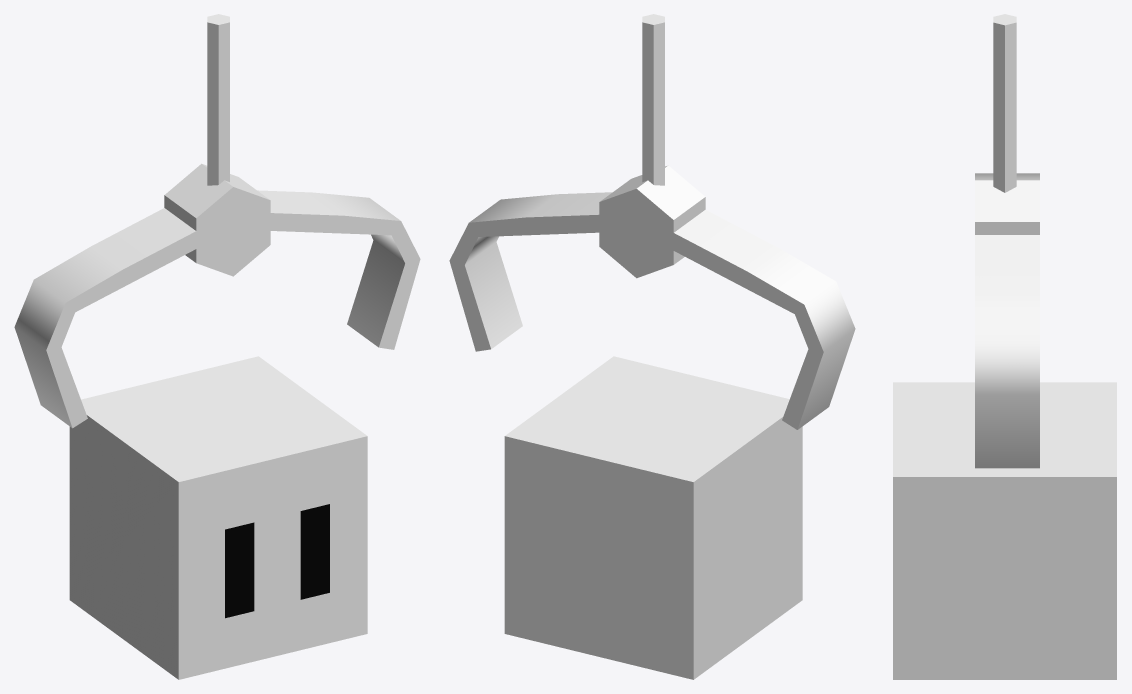
The model's file is arm.obj.
3 renders of one model, left to right at view 1: azimuth 30°, elevation 25°; view 2: azimuth 150°, elevation 25°; view 3: azimuth 270°, elevation 25°, orthographic. The views are drawn at different scales.
Visible parts, largest first — view 1: pCube1, pPlane5, pPlane4, pCylinder1, pCylinder2, pPlane2, pPlane1; view 2: pCube1, pPlane5, pPlane4, pCylinder1, pCylinder2, pPlane3; view 3: pCube1, pPlane4, pCylinder2, pCylinder1.
Part boxes in pixels (x1=…): pCube1: x1=69, y1=356, x2=367, y2=679; pPlane5: x1=14, y1=208, x2=230, y2=428; pPlane4: x1=236, y1=190, x2=420, y2=349; pCylinder1: x1=164, y1=163, x2=270, y2=276; pCylinder2: x1=207, y1=14, x2=229, y2=185; pPlane2: x1=300, y1=504, x2=329, y2=599; pPlane1: x1=225, y1=522, x2=254, y2=618; pCube1: x1=504, y1=356, x2=802, y2=679; pPlane5: x1=637, y1=209, x2=855, y2=429; pPlane4: x1=449, y1=192, x2=636, y2=351; pCylinder1: x1=599, y1=165, x2=705, y2=278; pCylinder2: x1=642, y1=14, x2=664, y2=185; pPlane3: x1=561, y1=529, x2=599, y2=577; pCube1: x1=893, y1=382, x2=1116, y2=679; pPlane4: x1=975, y1=235, x2=1039, y2=468; pCylinder2: x1=993, y1=14, x2=1016, y2=192; pCylinder1: x1=975, y1=180, x2=1039, y2=234.
Bounding box in the file's own units: 9.9 × 15.11 × 5.21.
2 materials, 1 textured.
